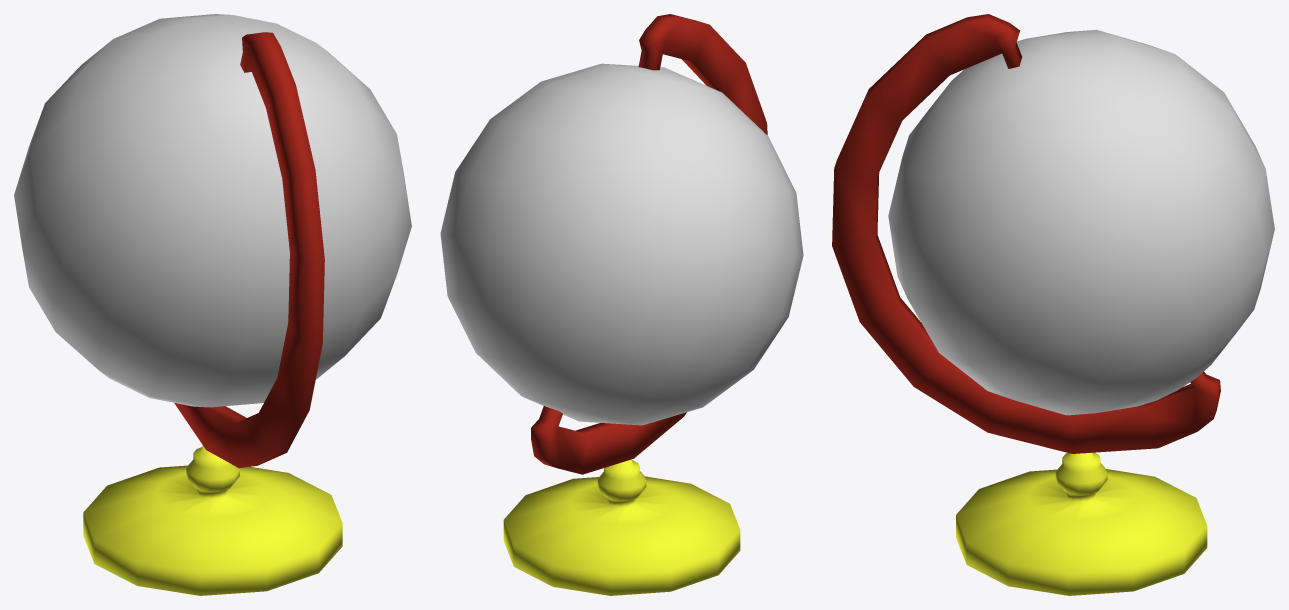
The model's file is SM_Globe_01.fbx.
3 views of the same model, side by side, from view 1: azimuth 30°, elevation 25°; view 2: azimuth 150°, elevation 25°; view 3: azimuth 270°, elevation 25° (orthographic). The views are drawn at different scales.
Parts seen in each view (by area): view 1: globe; view 2: globe; view 3: globe.
Boxes of the visible parts, bbox=[...] form: globe: bbox=[14, 14, 411, 595]; globe: bbox=[440, 14, 803, 595]; globe: bbox=[832, 14, 1274, 595].
Size of the model in its own units: 44.61 by 68.98 by 52.65.
